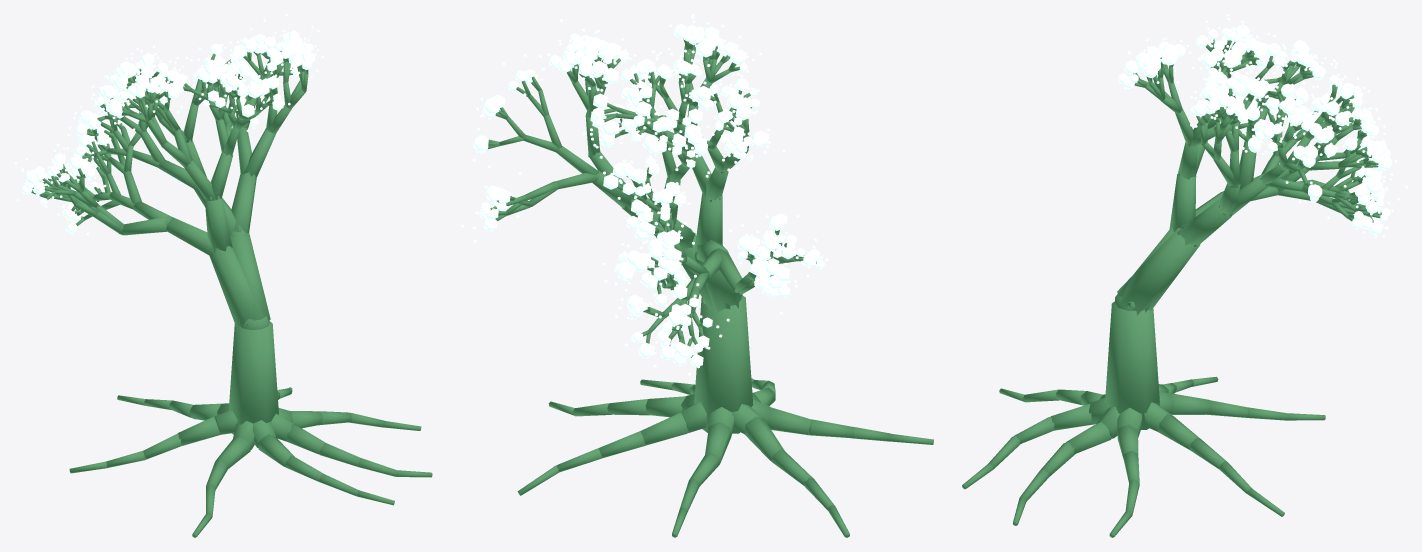
File: god_verdance.glb
The picture shows the model from 3 angles, left to right: view 1: azimuth 30°, elevation 25°; view 2: azimuth 150°, elevation 25°; view 3: azimuth 270°, elevation 25°; orthographic projection. The views are drawn at different scales.
Visible parts, largest first — view 1: Verdance, VerdanceBlooms; view 2: Verdance, VerdanceBlooms; view 3: Verdance, VerdanceBlooms.
Boxes of the visible parts, x1,y1,x2,y2 form: Verdance: [31, 51, 432, 537]; VerdanceBlooms: [14, 14, 323, 235]; Verdance: [488, 39, 933, 537]; VerdanceBlooms: [461, 14, 828, 375]; Verdance: [962, 39, 1381, 537]; VerdanceBlooms: [1118, 14, 1407, 238].
Size of the model in its own units: 1.17 by 1.39 by 1.32.
